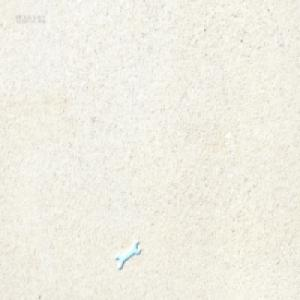Wrench: (116, 241, 140, 269)
